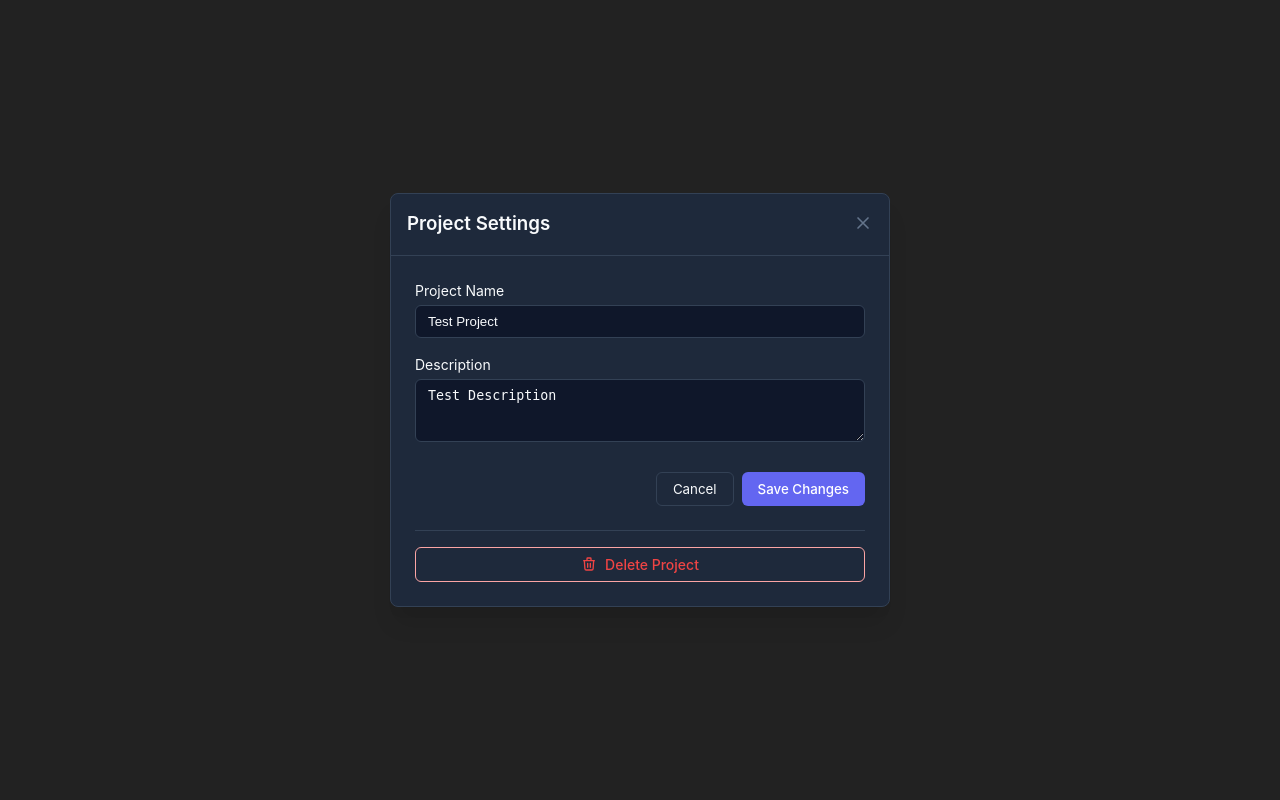
Test: ProjectSettingsModal › should cancel rename confirmation
This screenshot has width=1280, height=800.
Replace the text in the field showing "Test Project" with "New Name": (640,321) [415,304,865,338]
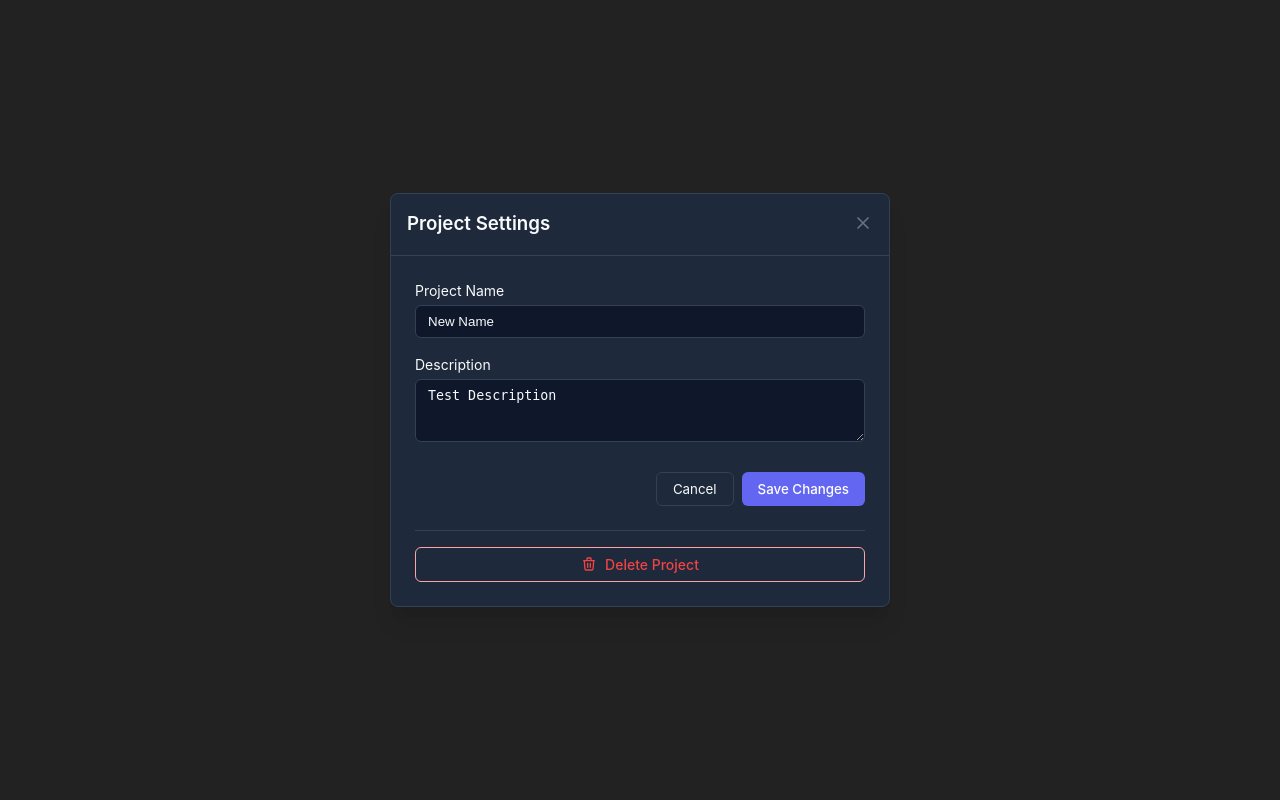
Click the button "Save Changes": (803,488) [742,472,865,506]
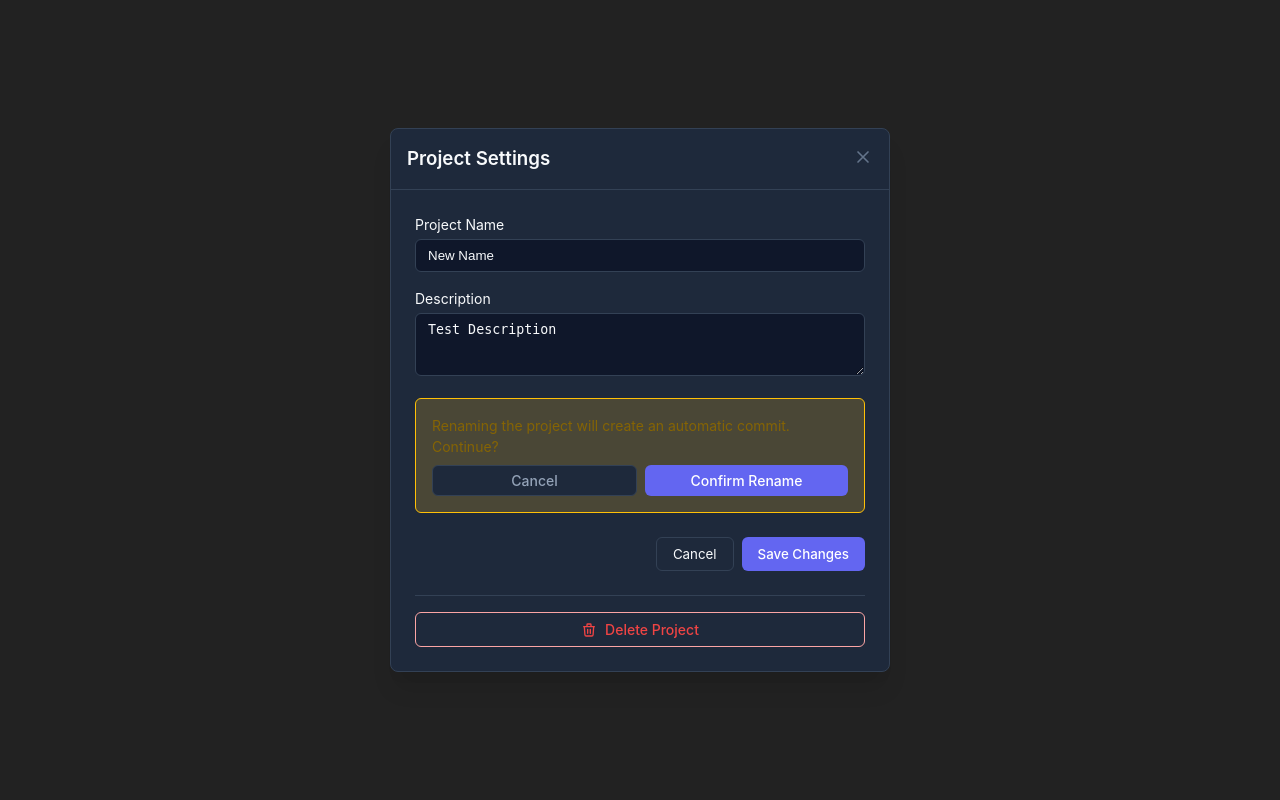
Check: the text "Renaming the project will create an automatic commit" is shown, box [432,417,790,455]
Find the Cancel button within that container
Click the 1st button "Cancel": (534,480) [432,465,637,496]
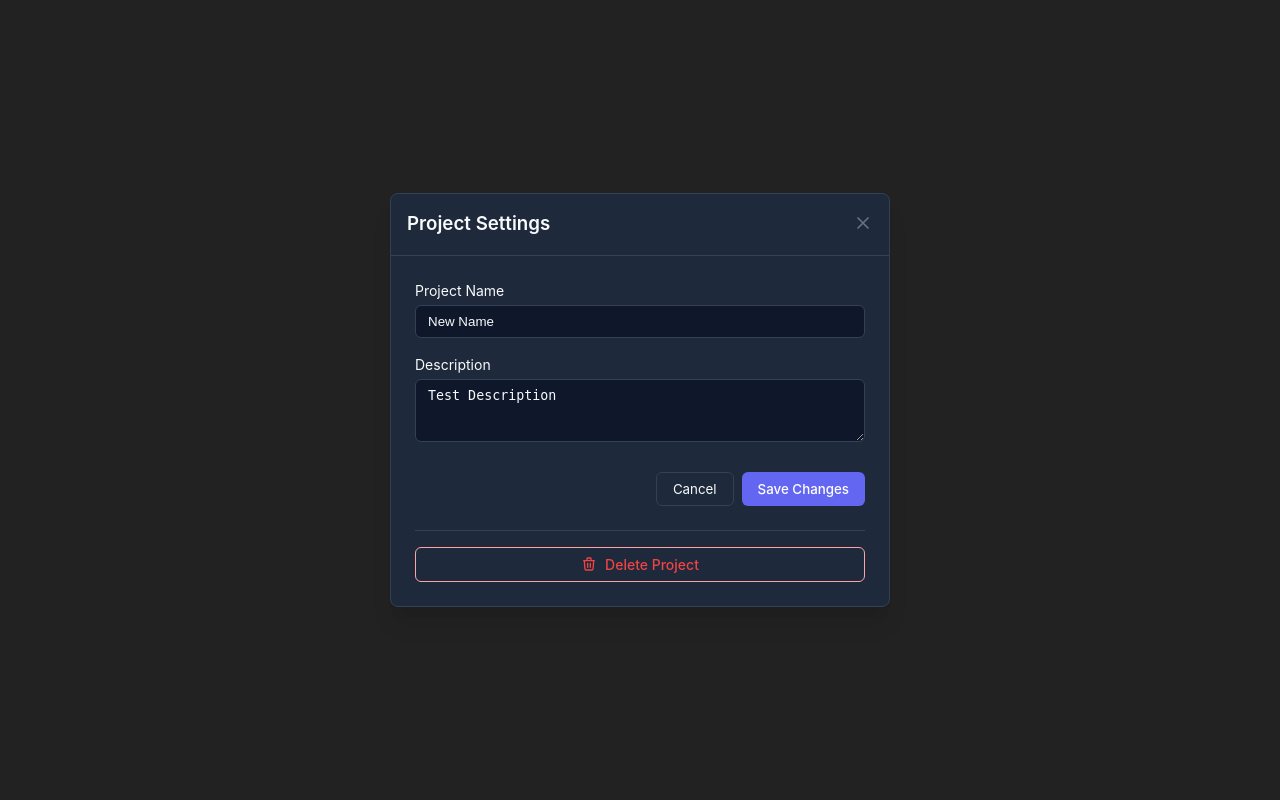
Check: the heading "Project Settings" is shown, box [407,210,550,239]
Check: the text "Renaming the project will create an automatic commit" is gone
